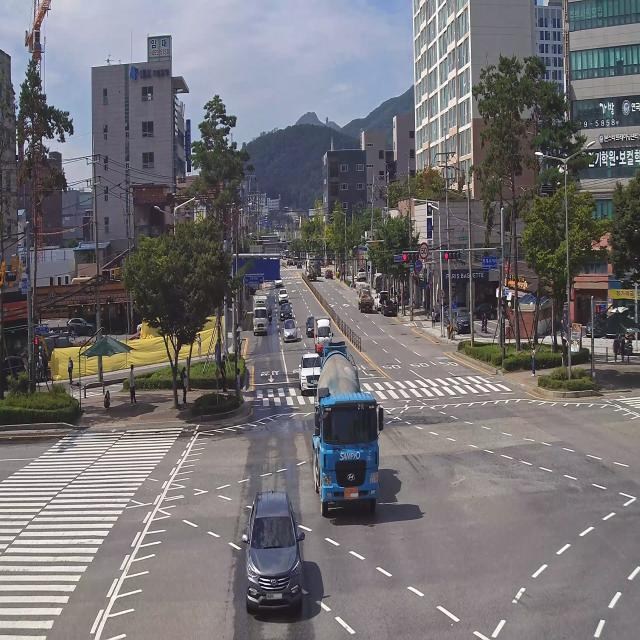Car: (236, 485, 310, 622), (300, 354, 327, 395), (583, 304, 609, 340), (467, 298, 503, 322), (278, 316, 301, 346), (454, 305, 472, 337), (278, 301, 297, 325), (304, 313, 319, 341), (440, 304, 455, 330), (382, 298, 397, 322), (276, 285, 291, 306), (374, 288, 386, 308), (355, 264, 366, 280), (324, 265, 334, 280)
Motorcycle: (266, 304, 274, 326)
Truck: (308, 334, 382, 524), (313, 311, 339, 357), (250, 285, 270, 338), (356, 283, 374, 315), (305, 252, 317, 286), (314, 248, 322, 277)
